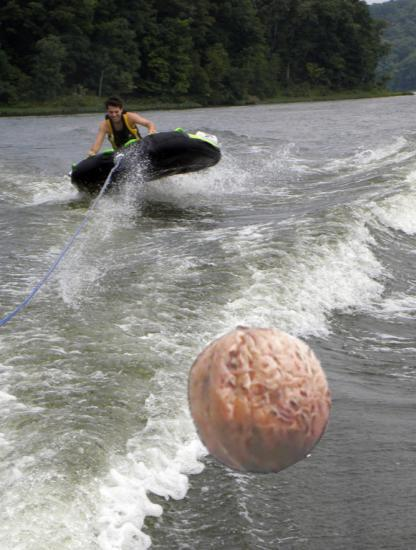Walnut: (184, 323, 334, 473)
